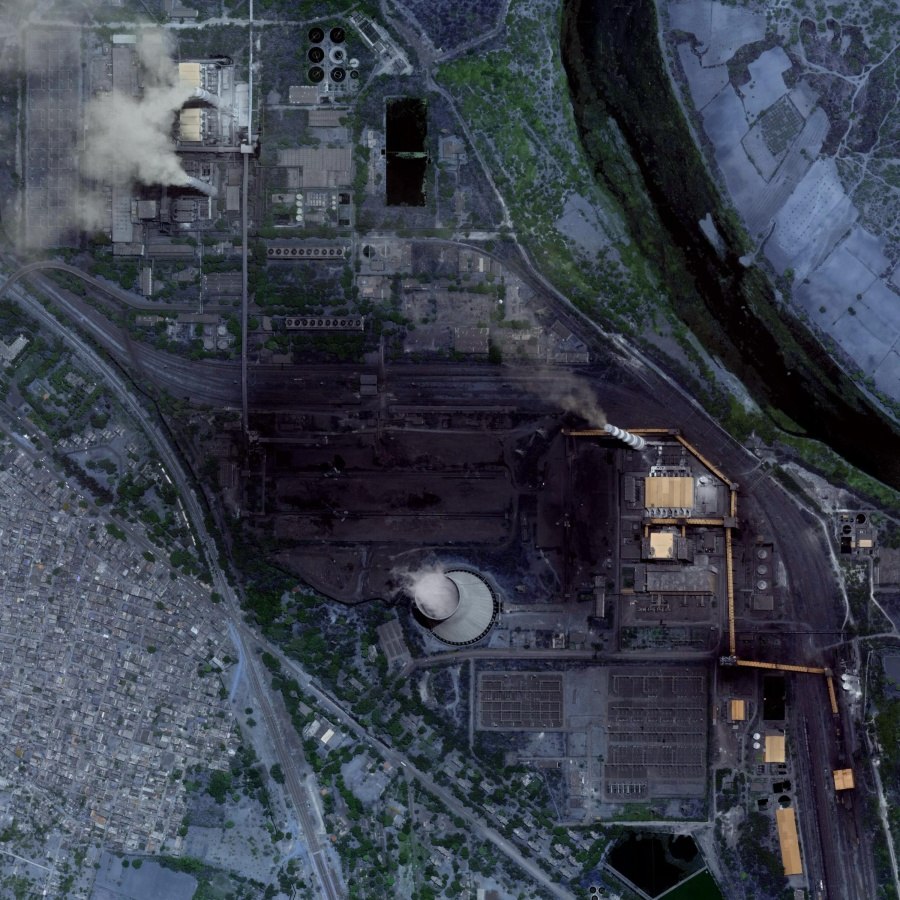PowerPlant: (213, 322, 706, 677)
